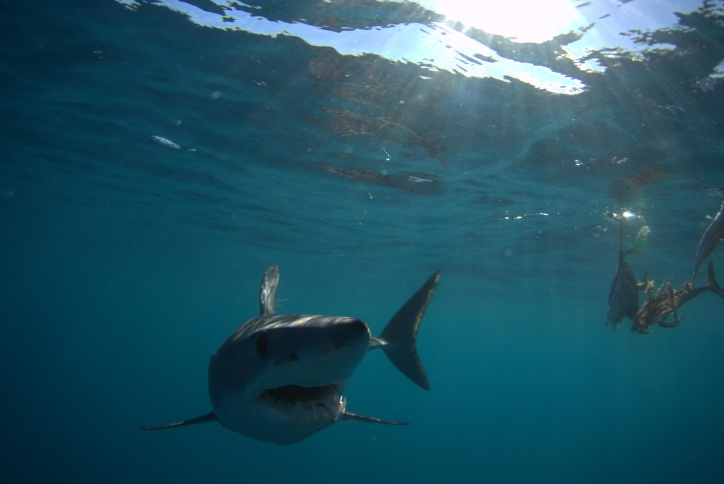Mako: (118, 248, 464, 469)
